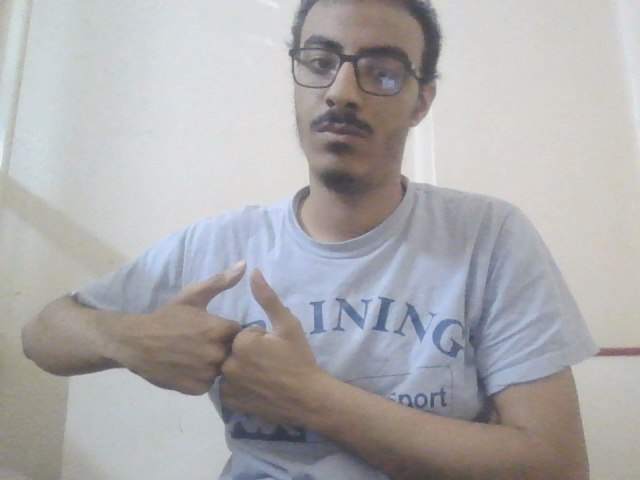Game: (127, 247, 331, 438)
